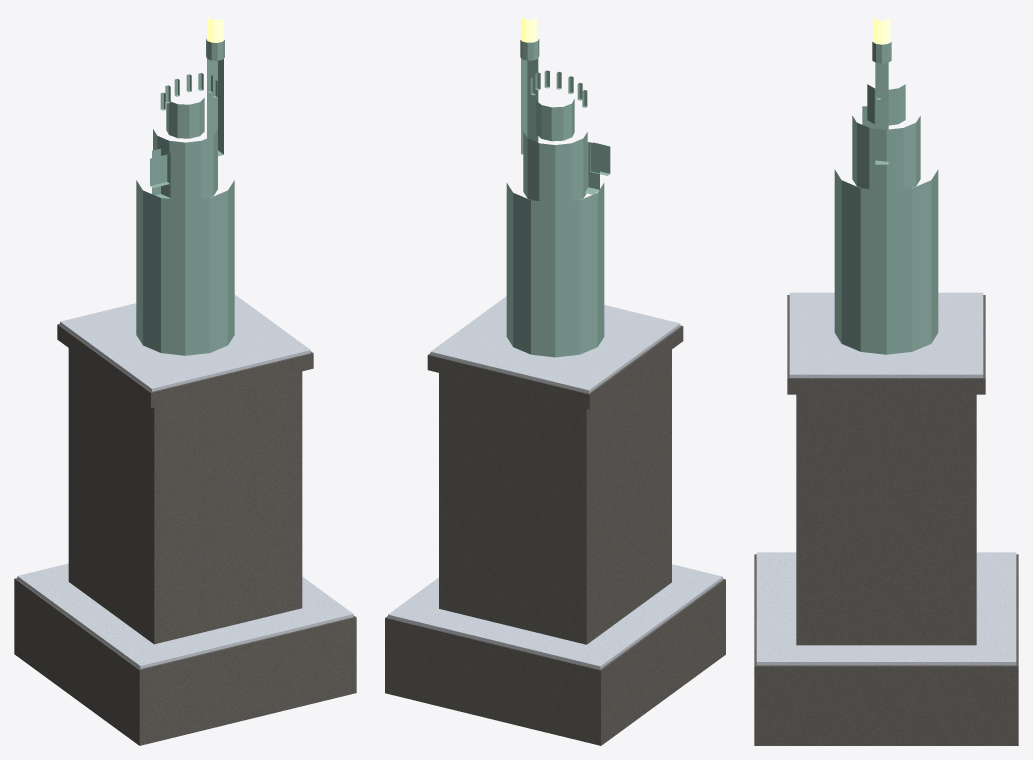
Rendered from statue_of_liberty.glb.
3 renders of one model, left to right at view 1: azimuth 30°, elevation 25°; view 2: azimuth 150°, elevation 25°; view 3: azimuth 270°, elevation 25°, orthographic. The views are drawn at different scales.
Visible parts, largest first — view 1: statue_of_liberty.glb; view 2: statue_of_liberty.glb; view 3: statue_of_liberty.glb.
Part boxes in pixels (x1,y1,x2,y2): statue_of_liberty.glb: (14, 17, 356, 745); statue_of_liberty.glb: (385, 17, 725, 745); statue_of_liberty.glb: (754, 18, 1018, 745).
Bounding box in the file's own units: 12 × 34.42 × 12.
Materials: 4 (2 with a texture image).
